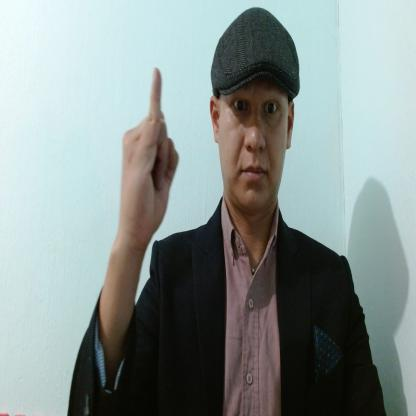I: (121, 64, 181, 238)
